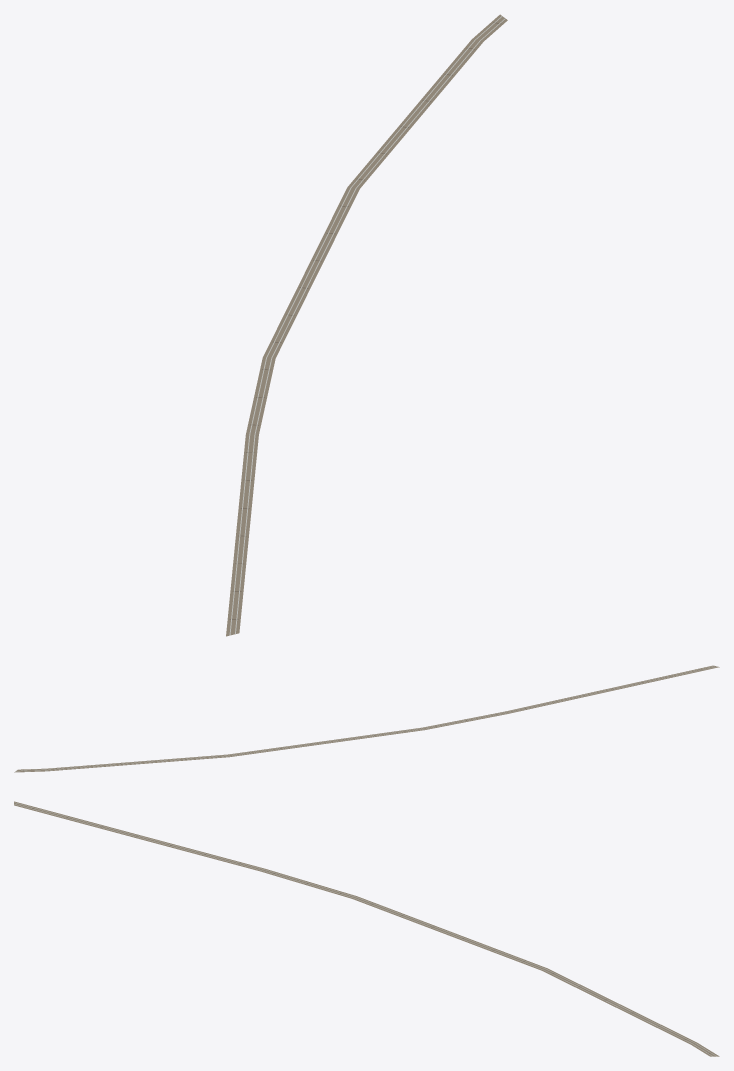
3 views of the same model, one above another, from view 1: azimuth 30°, elevation 25°; view 2: azimuth 150°, elevation 25°; view 3: azimuth 270°, elevation 25° (orthographic). The views are drawn at different scales.
Visible parts, largest first — view 1: rail; view 2: rail; view 3: rail.
Part boxes in pixels (x1=…): rail: x1=226, y1=14, x2=507, y2=636; rail: x1=14, y1=665, x2=719, y2=772; rail: x1=14, y1=801, x2=719, y2=1056.
Bounding box in the file's own units: 267 × 0.04 × 312.
